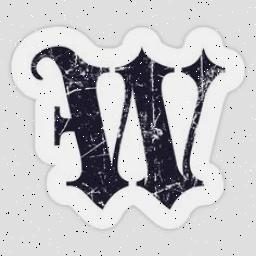w: (23, 38, 231, 220)
